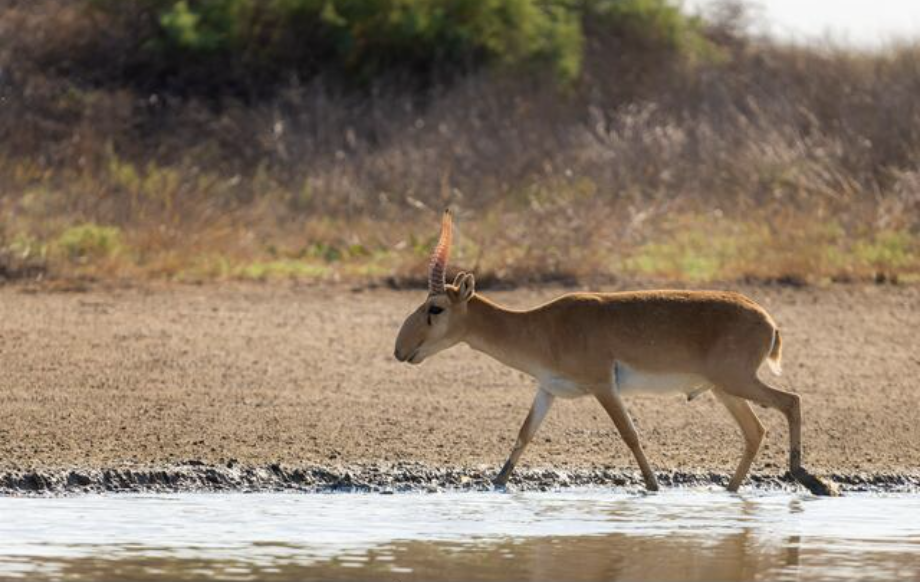saiga: (387, 212, 824, 496)
